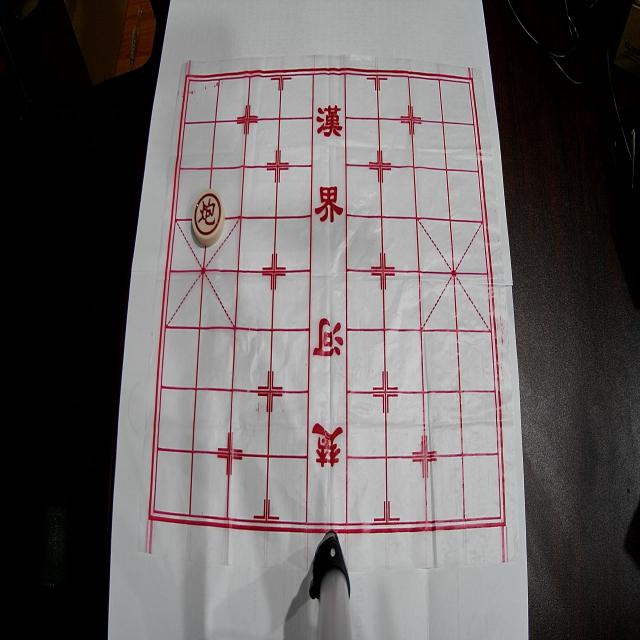red-cannon: (192, 189, 225, 246)
